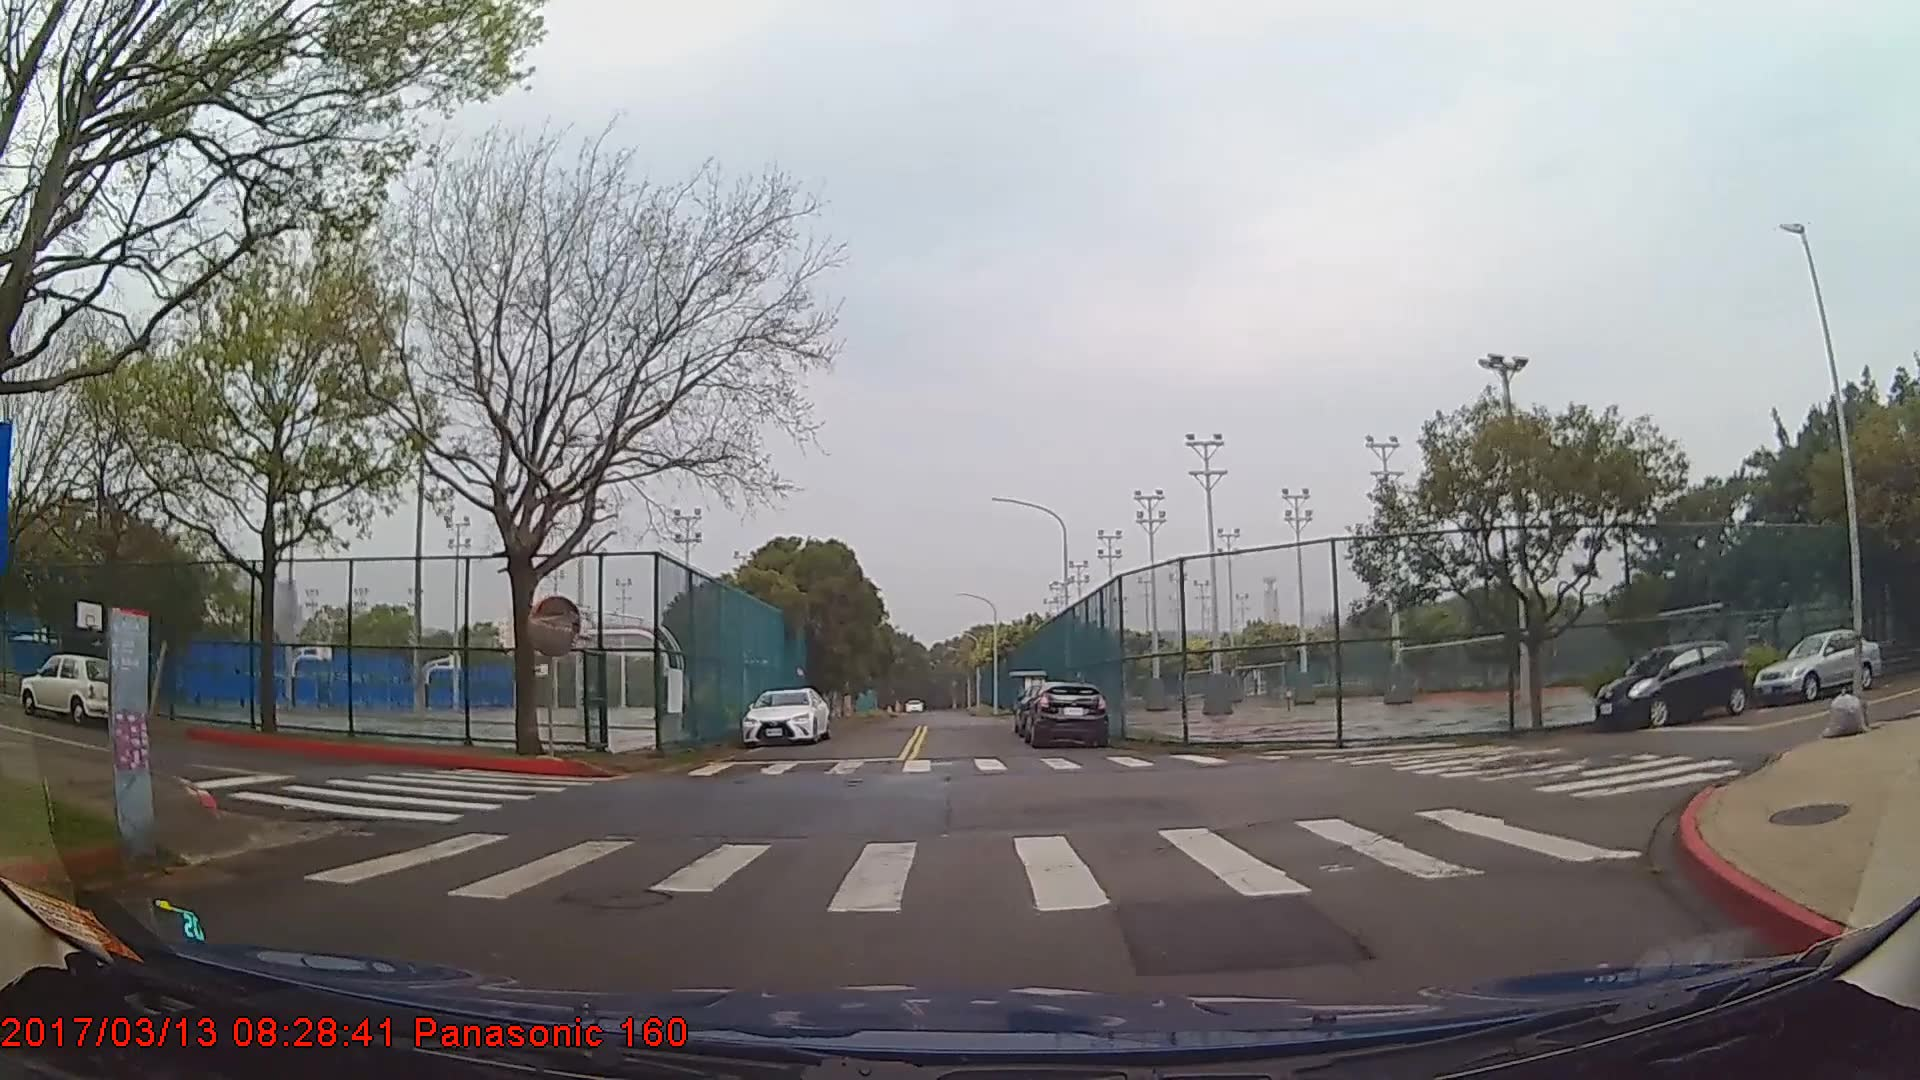vehicle: (1594, 640, 1746, 729), (1753, 628, 1884, 705), (21, 651, 123, 724), (1025, 682, 1106, 750), (744, 688, 832, 749)
